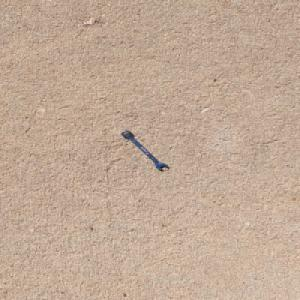Wrench: (121, 129, 170, 170)
